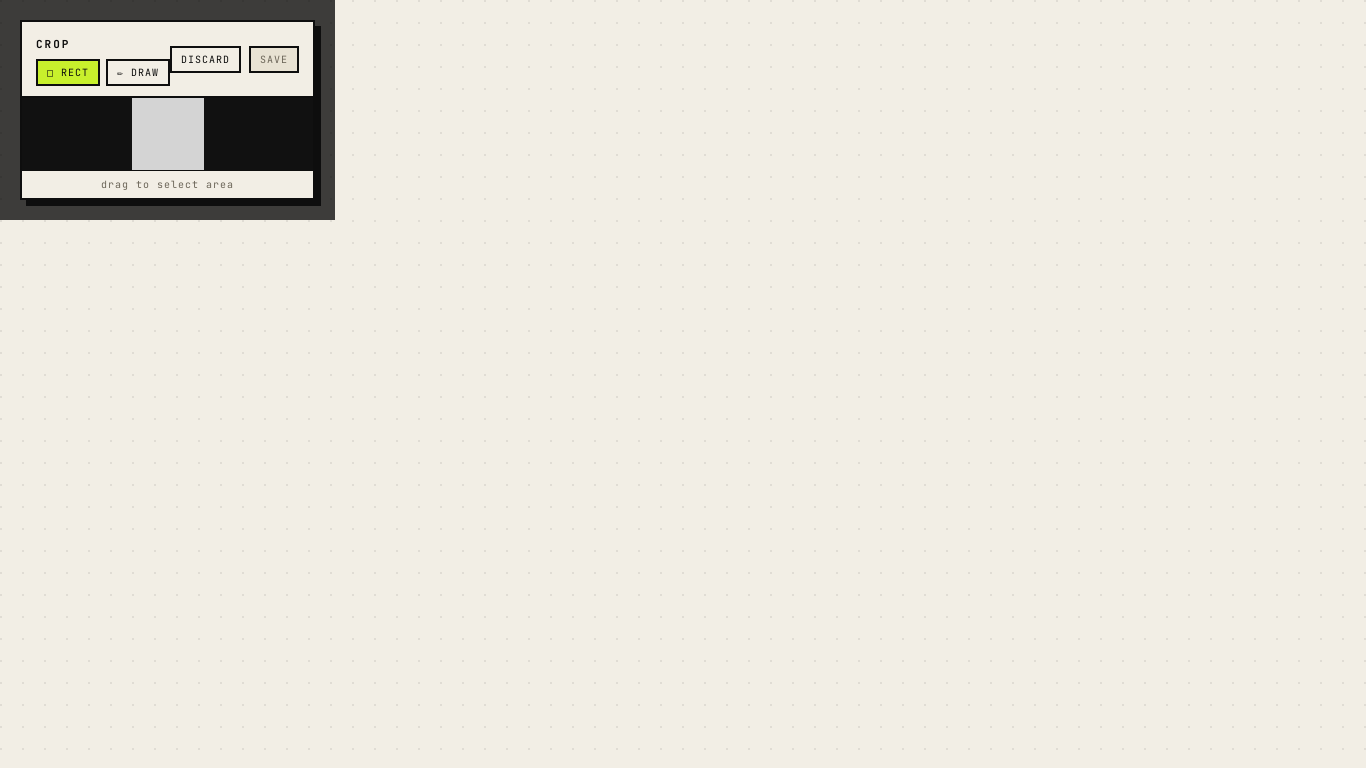
it: CropModal › draws rect crop and enables save button
This screenshot has width=1366, height=768.
Press the mouse on the element with class "crop-area" at (168, 134), box 22,98 -> 313,170
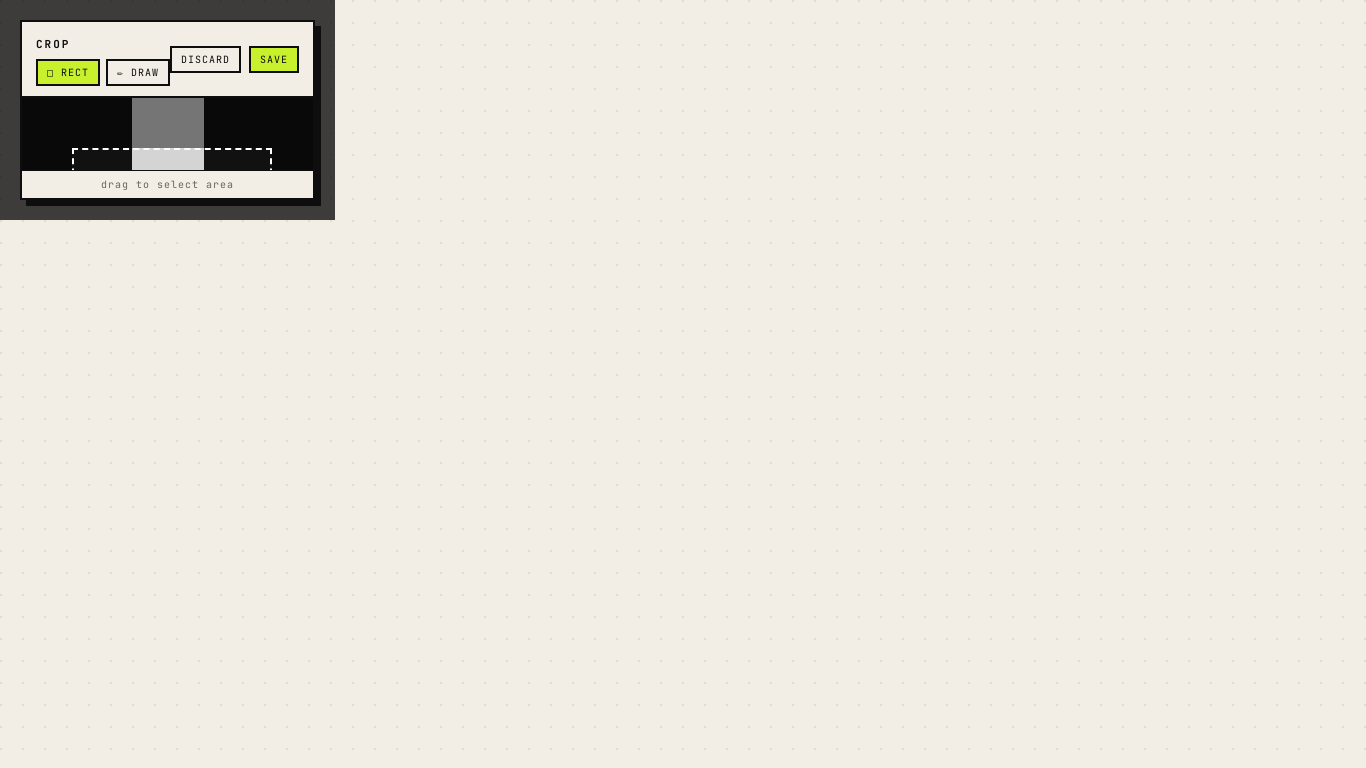
Expected: the button "save" is enabled, 249,46 -> 299,72
